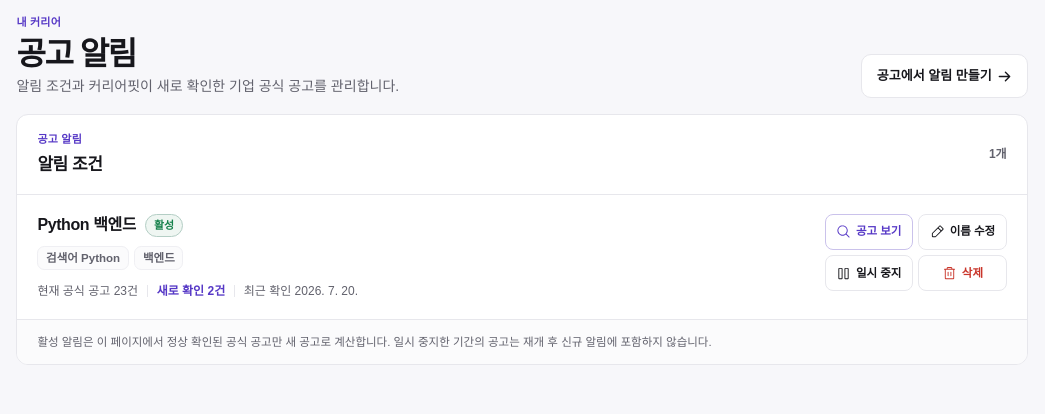
Test: SavedSearchManager › restores delete-button focus after cancellation and a failed deletion
The image size is (1045, 414).
Click the button "삭제". click: (963, 273)
box: [918,255,1007,291]
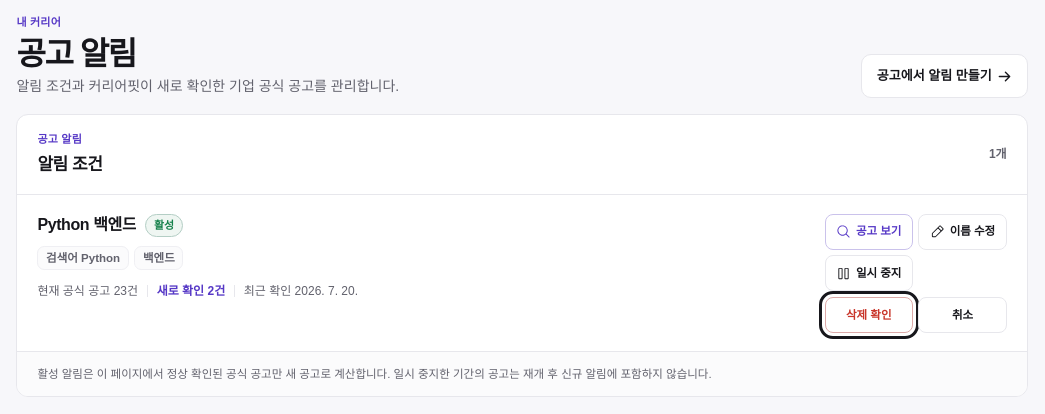
Click the button "취소". click: (963, 315)
box: [918,297,1007,333]
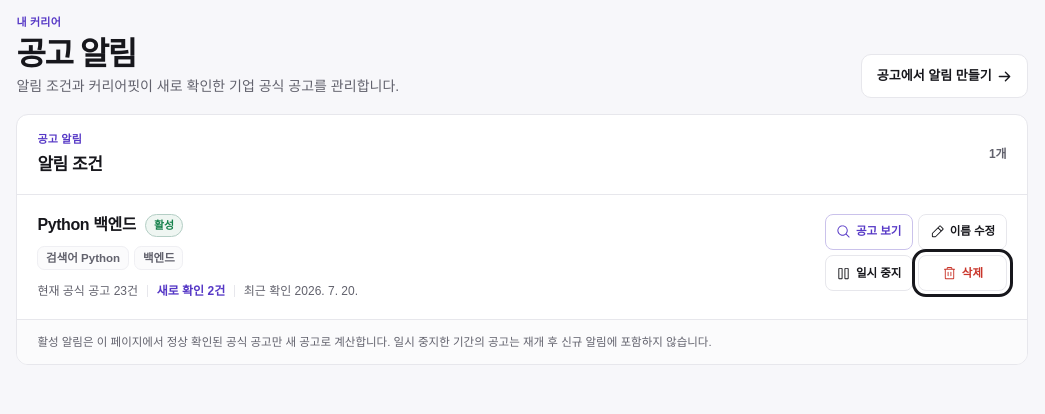
Click the button "삭제". click: (963, 273)
box: [918,255,1007,291]
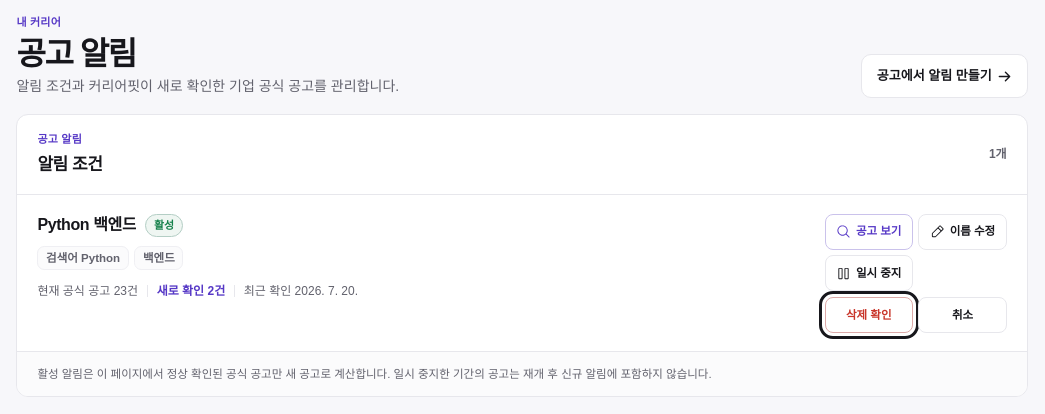
Click the button "삭제 확인". click: (869, 315)
box: [825,297,913,333]
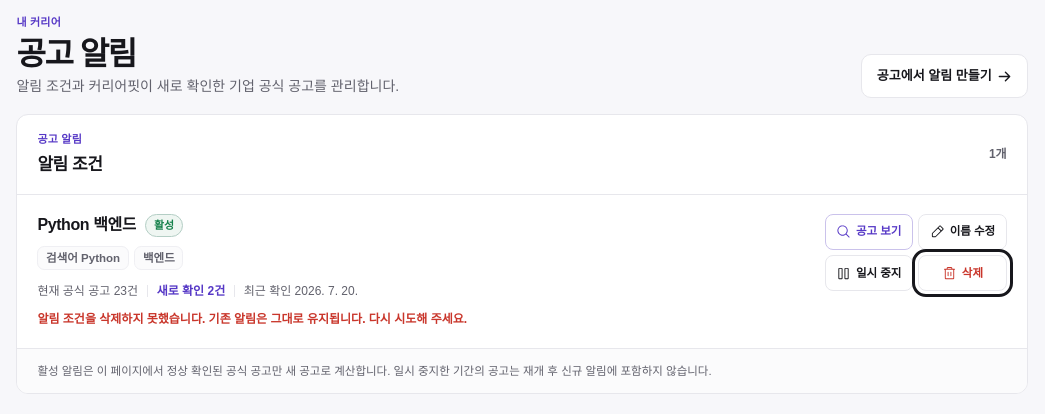
Expected: the text "알림 조건을 삭제하지 못했습니다. 기존 알림은 그대로 유지됩니다. 다시 시도해 주세요." is shown, [37,312,467,326]
